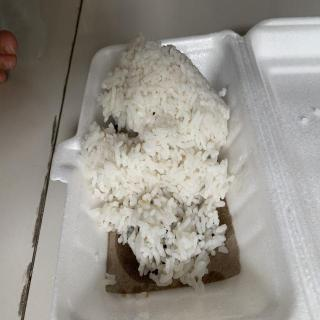Nasi: (83, 44, 231, 292)
